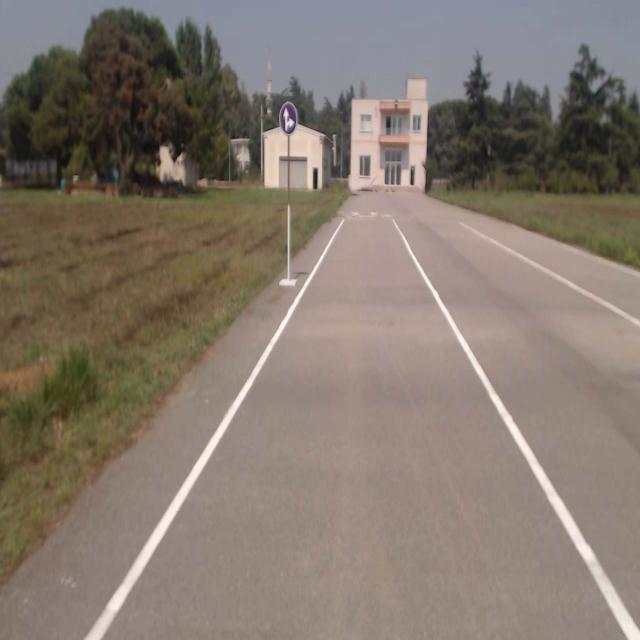ilerisag: (278, 102, 298, 134)
